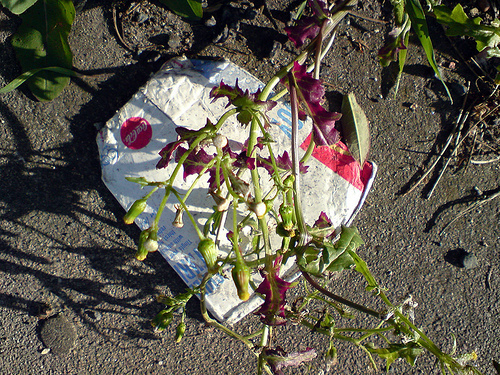litter: (94, 57, 373, 327)
